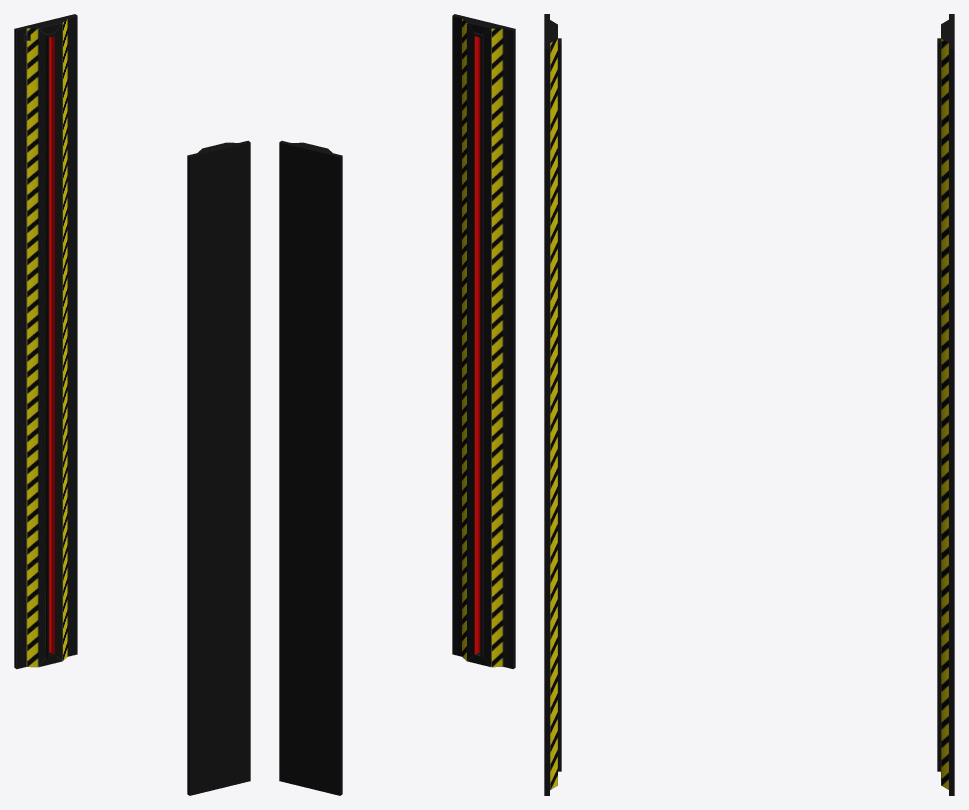
File: Laser Tower Final.FBX
3 views of the same model, side by side, from view 1: azimuth 30°, elevation 25°; view 2: azimuth 150°, elevation 25°; view 3: azimuth 270°, elevation 25° (orthographic). The views are drawn at different scales.
Visible parts, largest first — view 1: Laser_Tower2, Laser_Tower; view 2: Laser_Tower2, Laser_Tower; view 3: Laser_Tower2, Laser_Tower.
Part boxes in pixels (x1,y1,x2,y2): Laser_Tower2: (187, 140, 250, 795); Laser_Tower: (14, 14, 77, 669); Laser_Tower2: (452, 14, 515, 668); Laser_Tower: (279, 141, 342, 795); Laser_Tower2: (544, 14, 561, 795); Laser_Tower: (937, 14, 954, 795).
Bounding box in the file's own units: 20.01 × 200 × 99.62.
